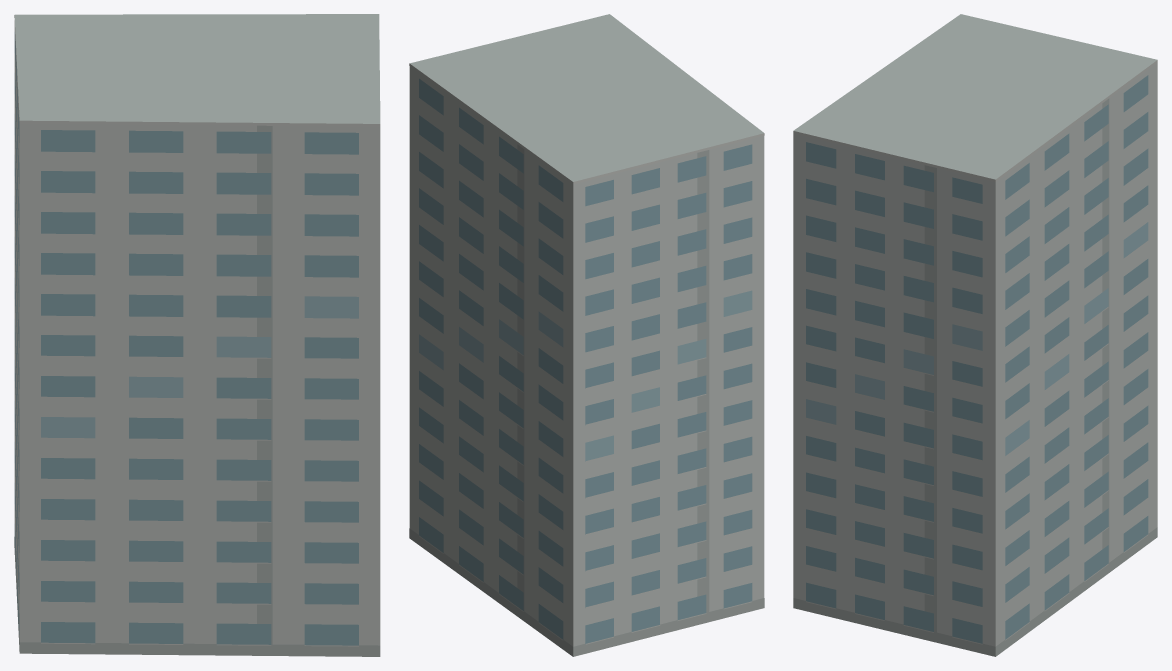
Rendered from residential-8e1f7c00-2b48-47b9-9a24-9cfcbdb5d45e.glb.
3 renders of one model, left to right at view 1: azimuth 30°, elevation 25°; view 2: azimuth 150°, elevation 25°; view 3: azimuth 270°, elevation 25°, orthographic. The views are drawn at different scales.
Visible parts, largest first — view 1: residential-8e1f7c00-2b48-47b9-9a24-9cfcbdb5d45e.tmp; view 2: residential-8e1f7c00-2b48-47b9-9a24-9cfcbdb5d45e.tmp; view 3: residential-8e1f7c00-2b48-47b9-9a24-9cfcbdb5d45e.tmp.
Boxes of the visible parts, x1,y1,x2,y2 form: residential-8e1f7c00-2b48-47b9-9a24-9cfcbdb5d45e.tmp: (14, 14, 380, 656); residential-8e1f7c00-2b48-47b9-9a24-9cfcbdb5d45e.tmp: (409, 14, 764, 656); residential-8e1f7c00-2b48-47b9-9a24-9cfcbdb5d45e.tmp: (793, 14, 1157, 656).
Size of the model in its own units: 33.5 by 45 by 31.15.
